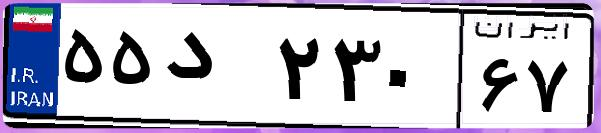0: (385, 28, 445, 110)
2: (270, 28, 330, 110)
3: (330, 28, 385, 110)
5: (57, 26, 110, 100), (110, 28, 158, 98)
6: (475, 38, 525, 113)
7: (525, 38, 570, 115)
د: (158, 20, 270, 120)
